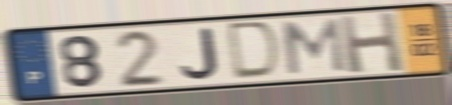2: (112, 28, 166, 89)
8: (57, 33, 106, 90)
D: (227, 19, 284, 82)
H: (336, 10, 407, 76)
J: (178, 26, 221, 82)
M: (280, 17, 349, 77)
